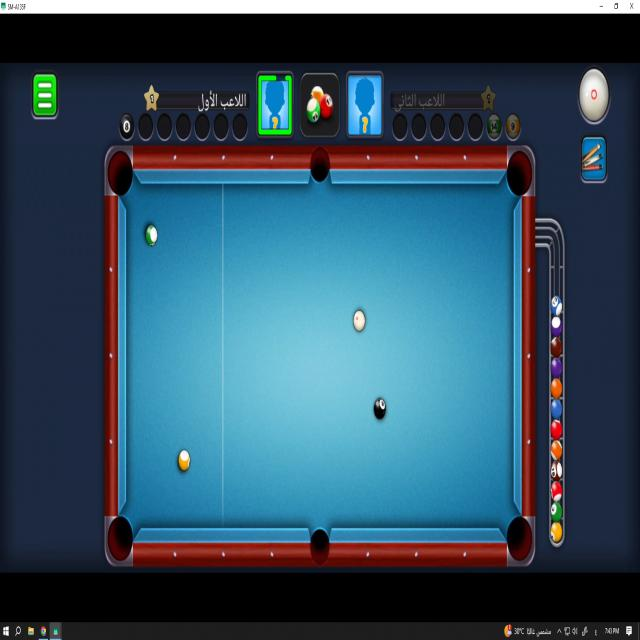object_ball: (146, 225, 157, 246), (354, 310, 365, 331), (374, 399, 385, 418)
white_cue_ball: (179, 450, 189, 471)
